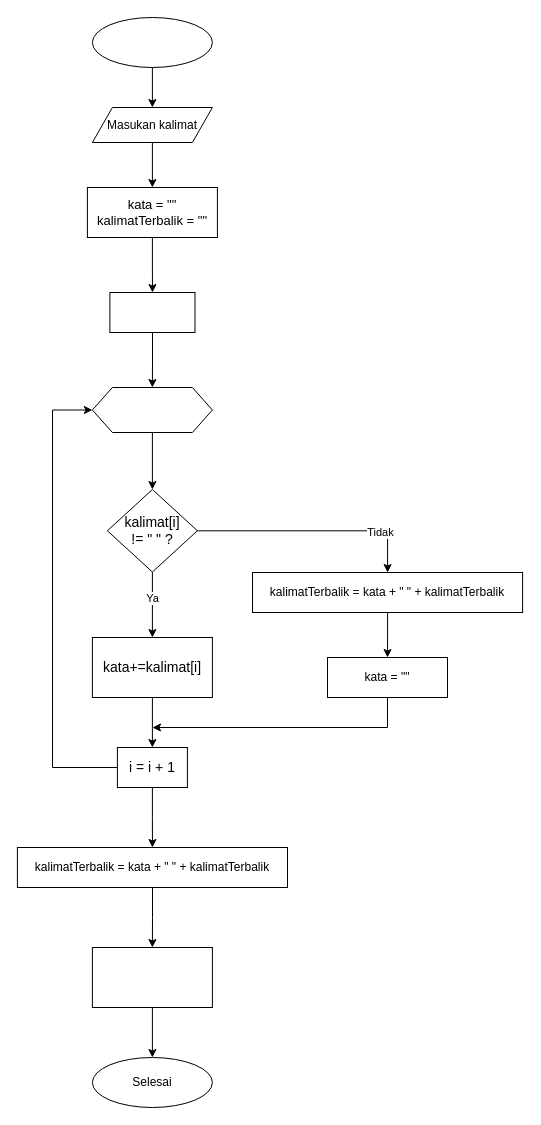
Image size: 541x1125. Some labels were removed from this diagram. The shapes that lost their labels are listed below. From the top down, each one's centre as x and y in pixels, then its label:
At [151,42]: "Mulai".
At [152,312]: "i = 0".
At [151,409]: "i < kalimat.length".
At [151,977]: "Cetak kalimatTerbalik".
